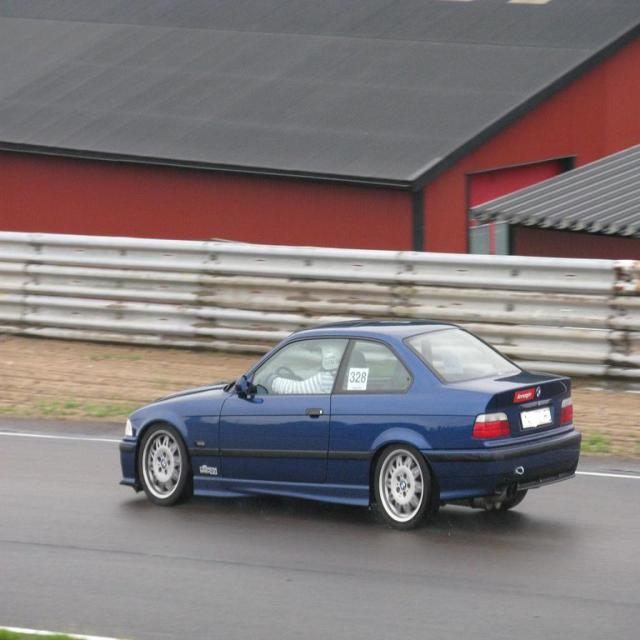car: (118, 320, 584, 528)
